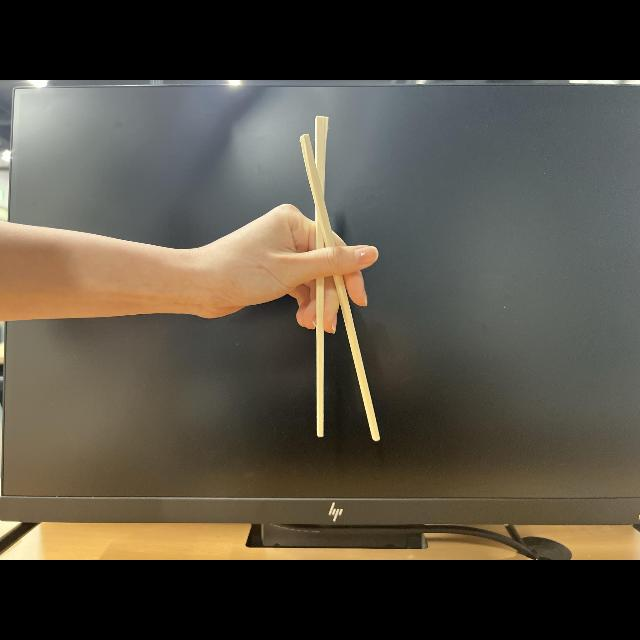stick: (220, 114, 384, 446)
